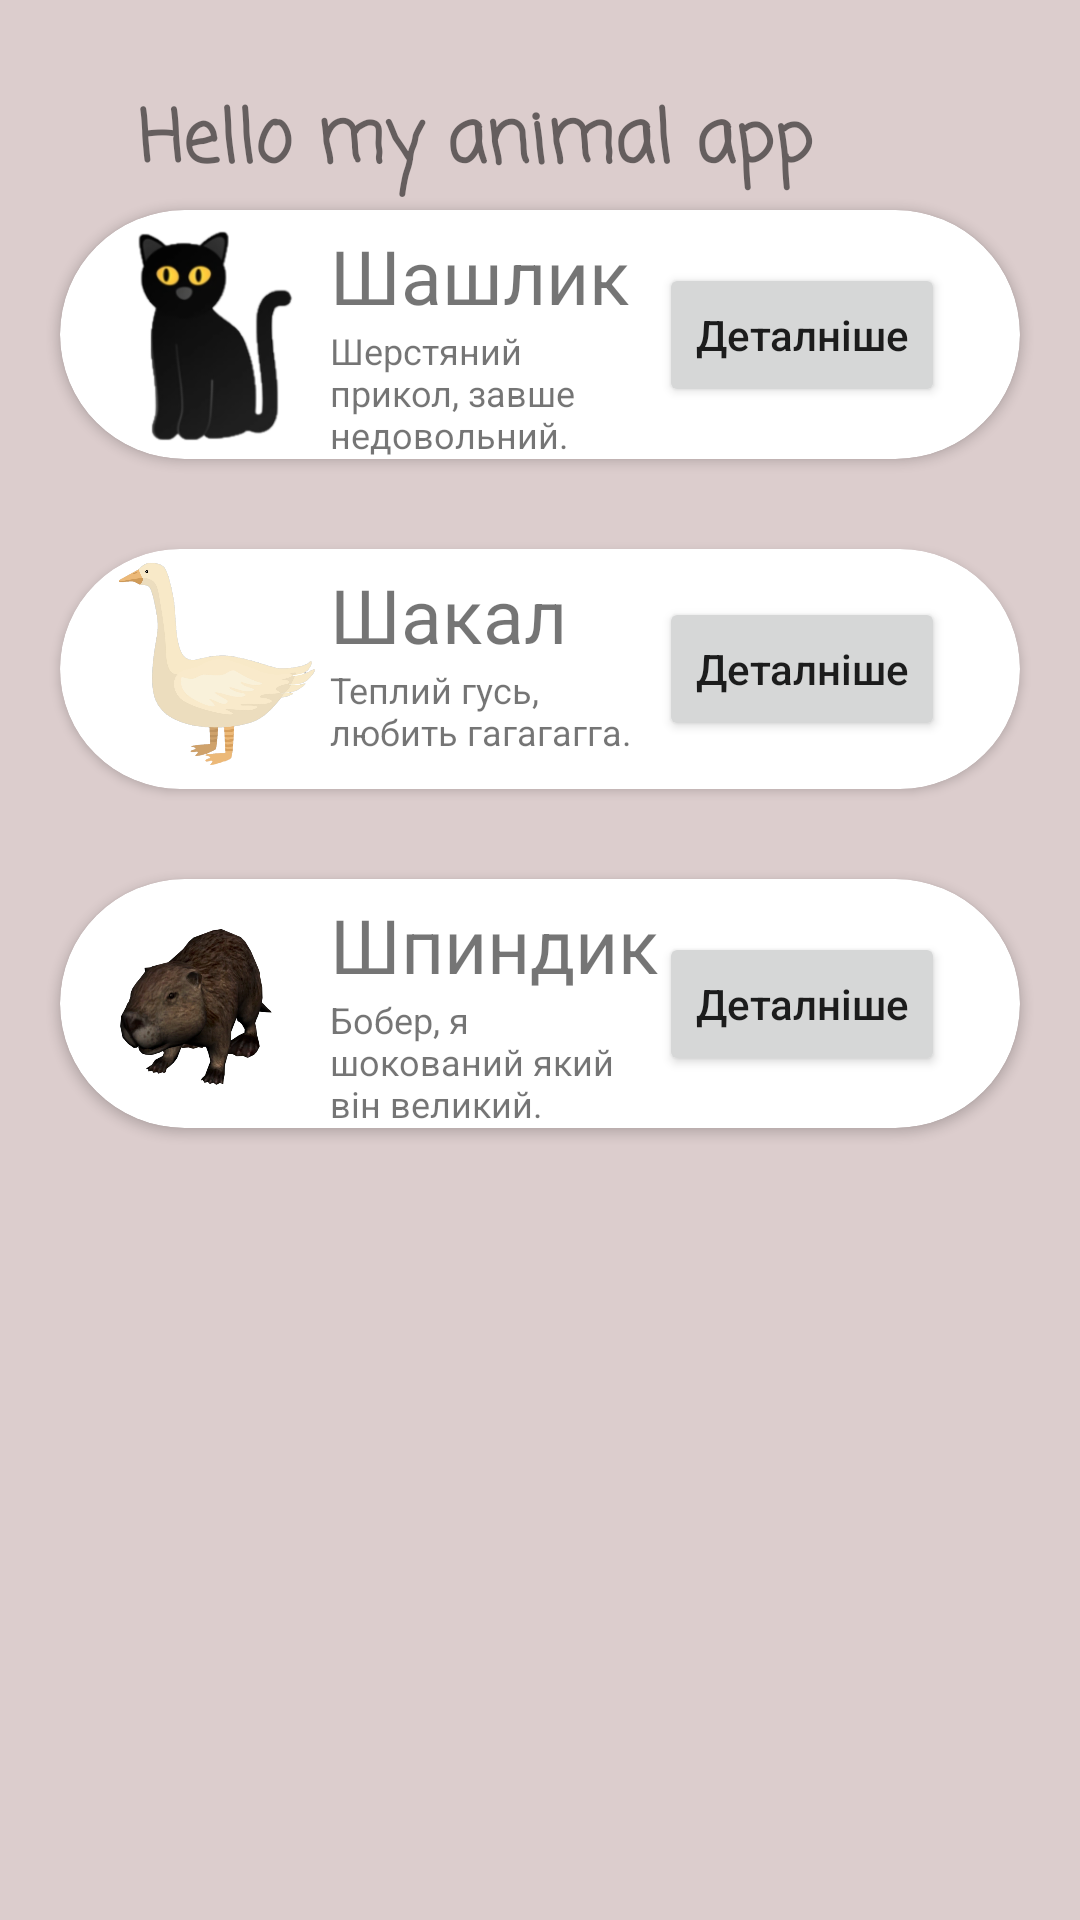

Named icons in this screenshot (1080px×1920px) and their centers, point (x, y):
cat: point (210, 330)
guse: point (210, 669)
